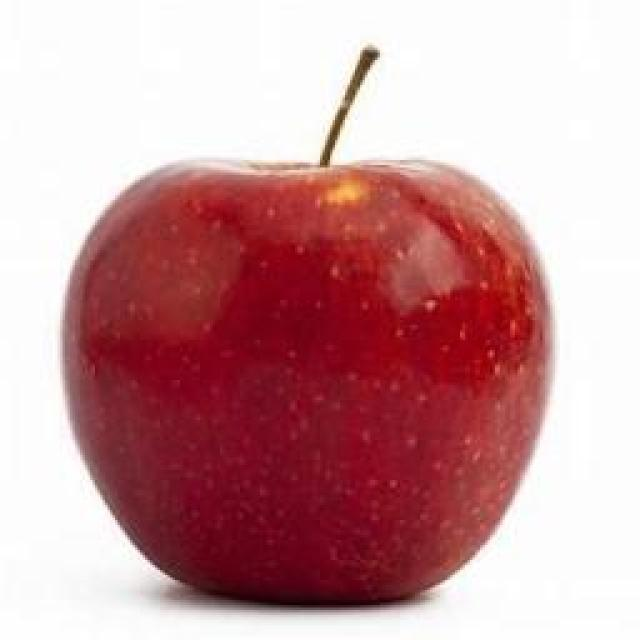apple: (59, 157, 555, 606)
